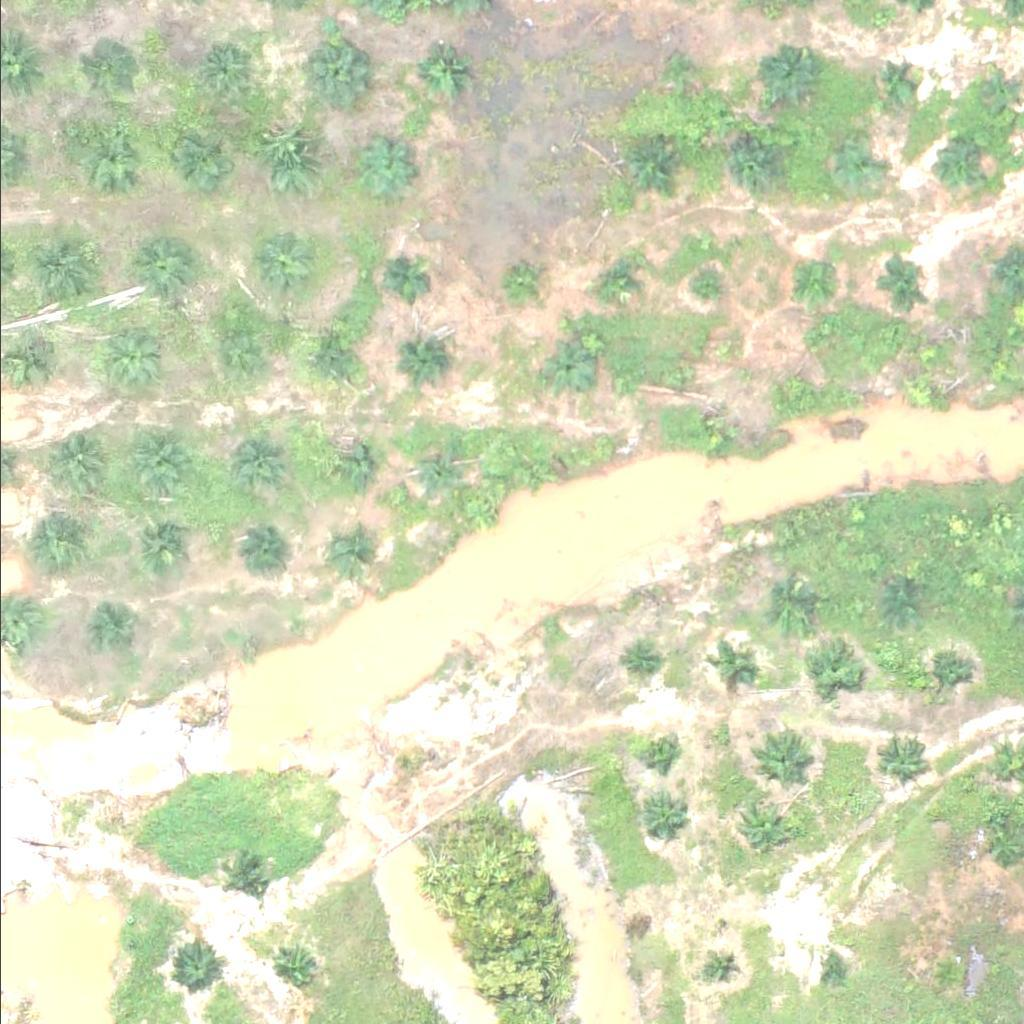Kelapa_Sawit: (197, 315, 260, 378), (221, 430, 284, 493), (757, 40, 820, 103), (404, 38, 467, 101), (304, 42, 367, 105), (821, 137, 884, 200), (124, 428, 187, 491), (79, 125, 142, 188), (72, 39, 135, 102), (28, 515, 91, 578), (43, 429, 106, 492), (732, 795, 795, 858), (165, 126, 228, 188), (250, 237, 313, 299), (352, 136, 415, 198), (33, 239, 96, 301), (129, 236, 192, 298), (91, 325, 154, 387), (133, 515, 196, 577), (252, 132, 315, 194), (750, 729, 813, 791), (726, 144, 777, 194), (623, 143, 674, 193), (591, 254, 642, 304), (936, 145, 986, 195), (196, 42, 246, 92), (235, 531, 285, 581), (404, 338, 454, 388), (379, 256, 429, 306), (409, 445, 459, 495), (540, 344, 590, 394), (324, 441, 374, 491), (325, 527, 375, 577), (167, 940, 217, 990), (89, 609, 139, 659), (271, 943, 321, 993), (215, 852, 265, 902), (300, 335, 350, 385), (915, 646, 965, 696), (806, 644, 856, 694), (873, 733, 923, 783), (637, 793, 687, 843), (872, 258, 922, 308), (782, 256, 832, 306), (756, 582, 806, 632), (514, 453, 552, 491), (503, 265, 541, 303), (713, 643, 751, 681), (622, 644, 660, 682), (639, 731, 677, 769), (662, 357, 700, 395), (775, 367, 813, 405), (900, 373, 938, 411), (702, 950, 740, 987), (700, 421, 738, 458), (927, 954, 964, 992), (880, 584, 918, 621), (977, 74, 1015, 111), (660, 55, 698, 92), (682, 267, 719, 304), (874, 65, 911, 102), (818, 956, 843, 981)
